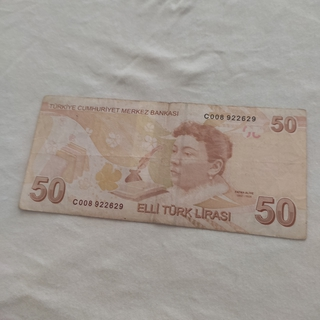50TLBack: (18, 94, 308, 241)
